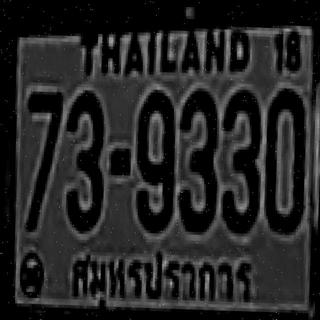N00: (261, 86, 305, 231), (132, 89, 174, 230)
N03: (62, 88, 106, 230), (218, 88, 260, 232), (176, 88, 218, 229)
N07: (22, 88, 61, 230), (22, 89, 61, 201), (23, 88, 61, 182)
N09: (132, 89, 174, 230)
P57: (66, 244, 263, 320)
